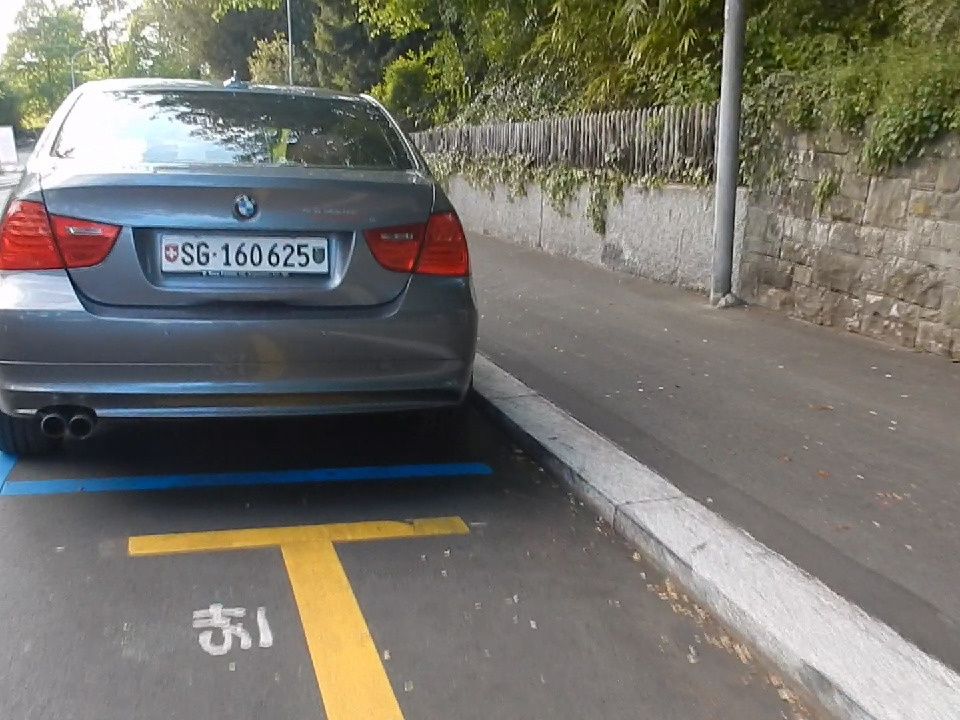car: (1, 58, 508, 453)
